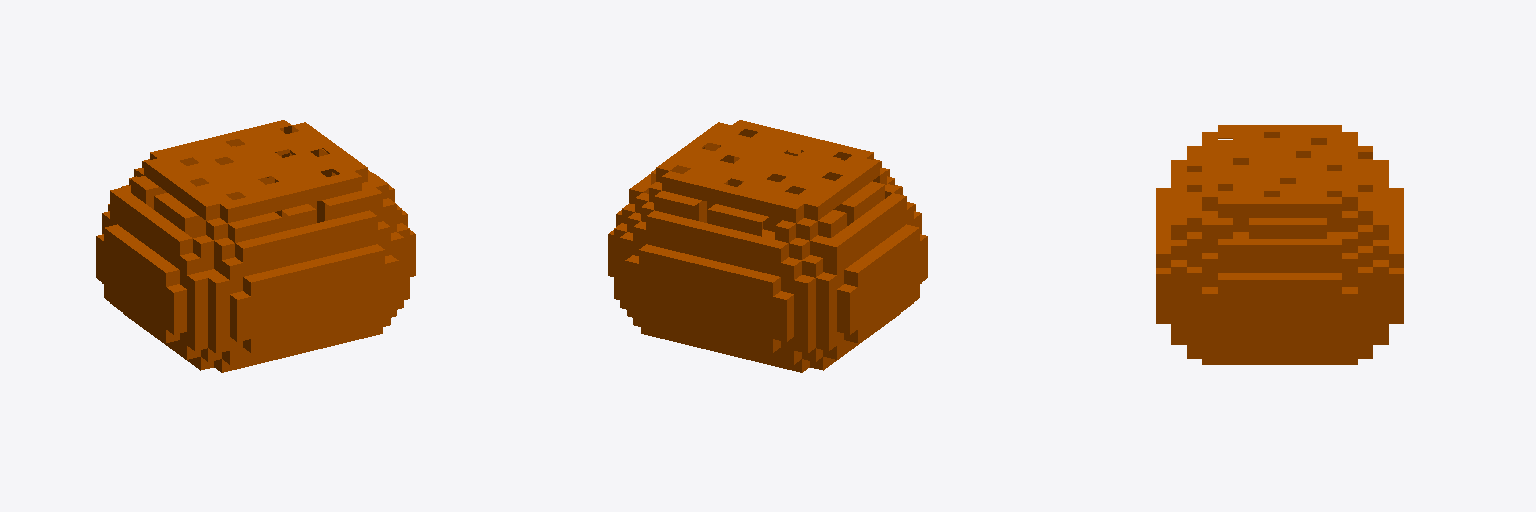
3 renders of one model, left to right at view 1: azimuth 30°, elevation 25°; view 2: azimuth 150°, elevation 25°; view 3: azimuth 270°, elevation 25°, orthographic.
Parts seen in each view (by area): view 1: object 1; view 2: object 1; view 3: object 1.
Boxes of the visible parts, <box> form: object 1: <box>96,120,415,372</box>; object 1: <box>608,120,927,372</box>; object 1: <box>1156,125,1403,364</box>.
Size of the model in its own units: 2 by 1.3 by 2.
Materials: 1 (1 with a texture image).